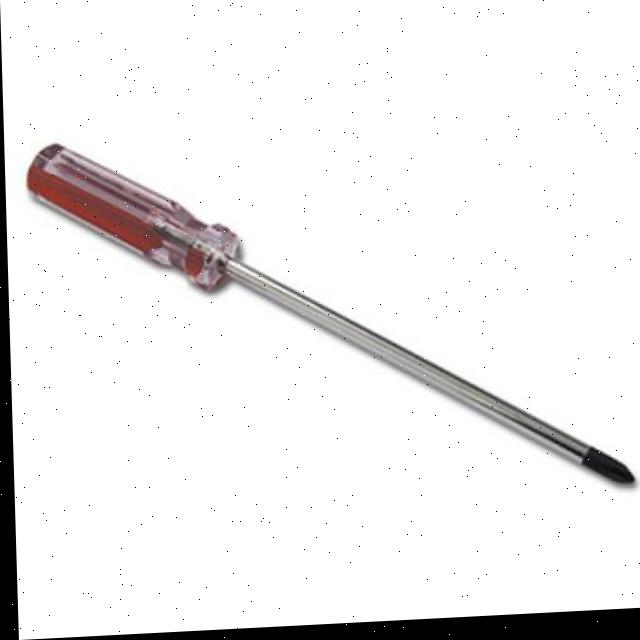Screwdriver: (26, 144, 628, 489)
